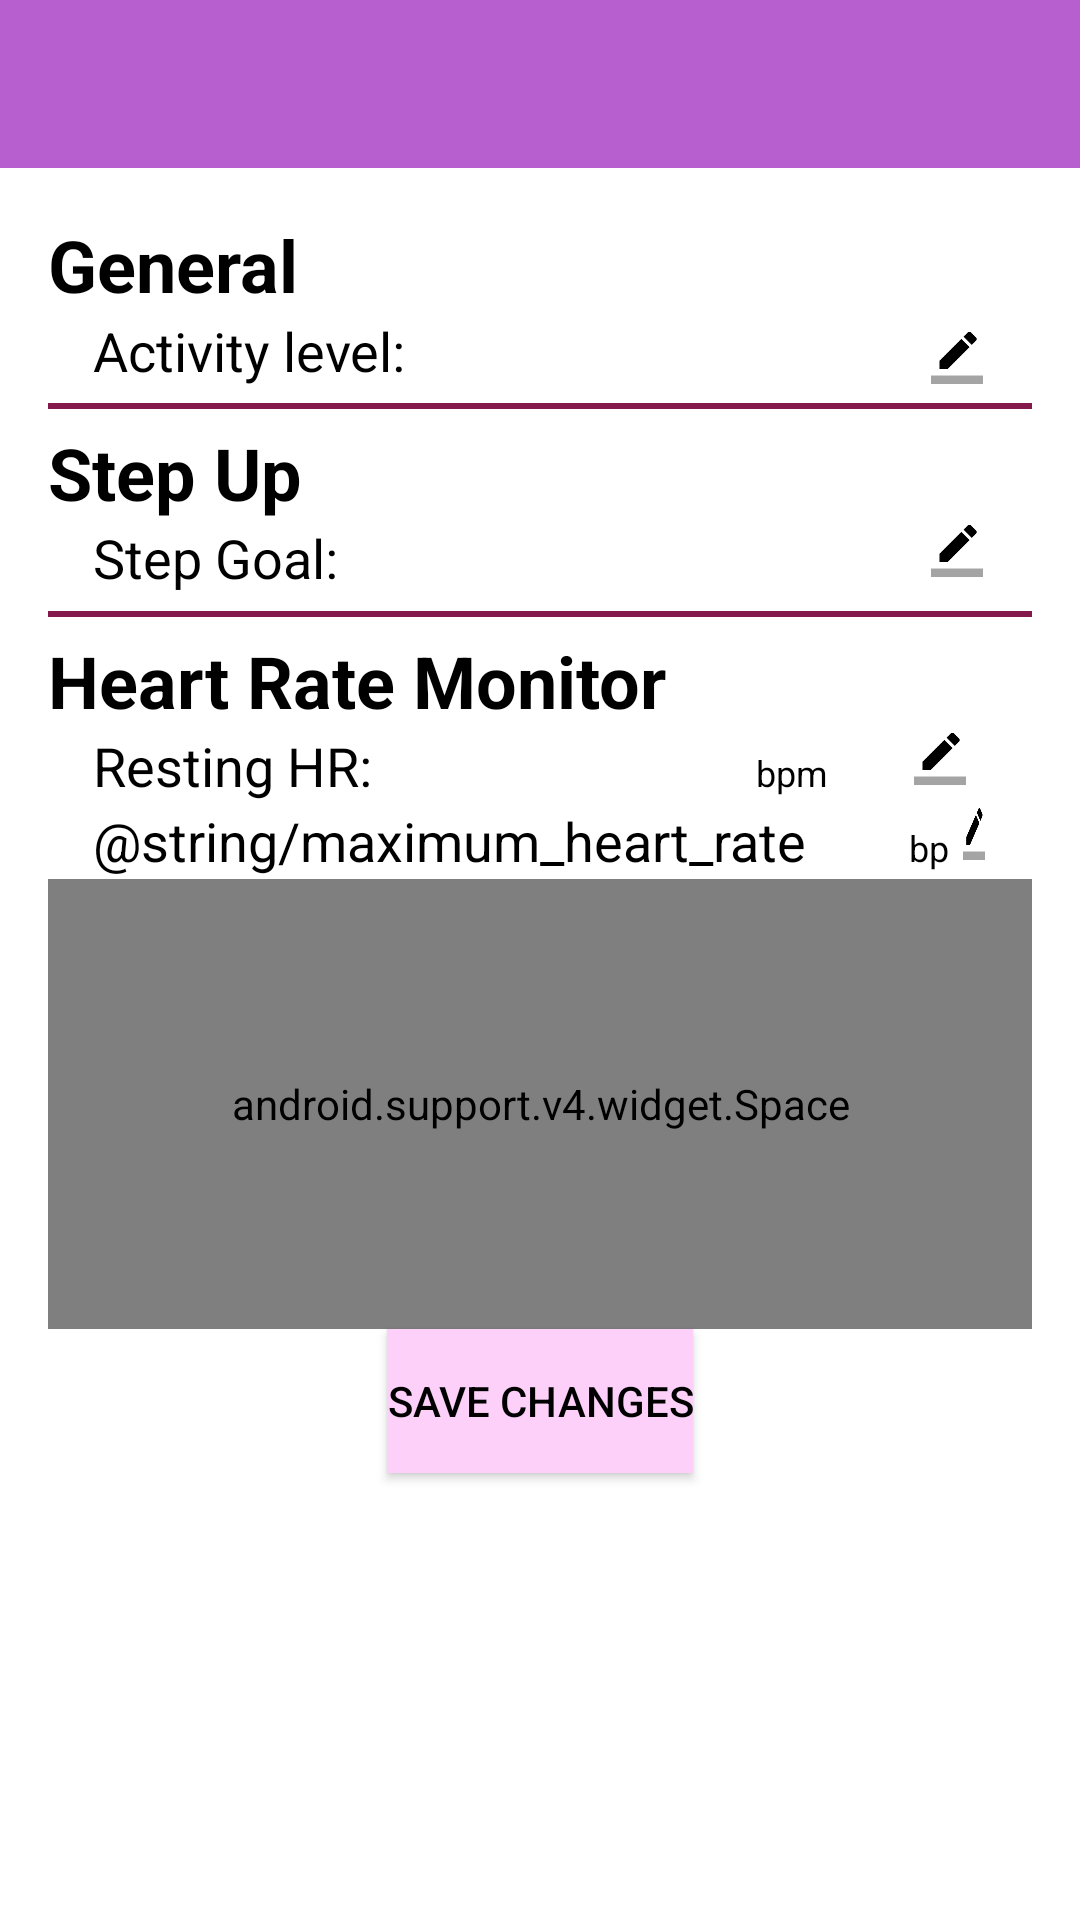

Icon bounding boxes for this 1080w x 1920h phone screenshot, format [x1, y1, x2, y2]:
edit: [931, 332, 983, 384]
